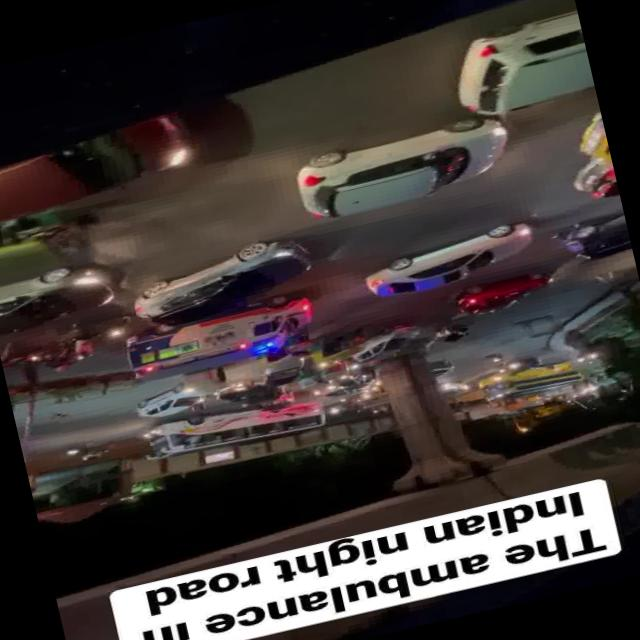ambulance: (120, 292, 319, 389)
